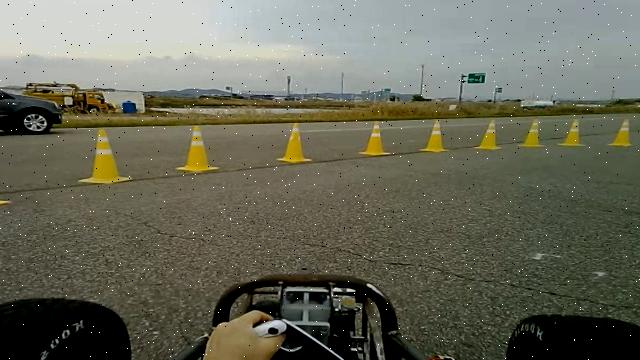yellow cone: (78, 128, 133, 184), (175, 125, 220, 172), (276, 122, 313, 164), (358, 120, 393, 156), (419, 118, 450, 152), (474, 118, 502, 150), (518, 118, 547, 147), (557, 118, 586, 146), (607, 117, 635, 146), (0, 170, 12, 209)
